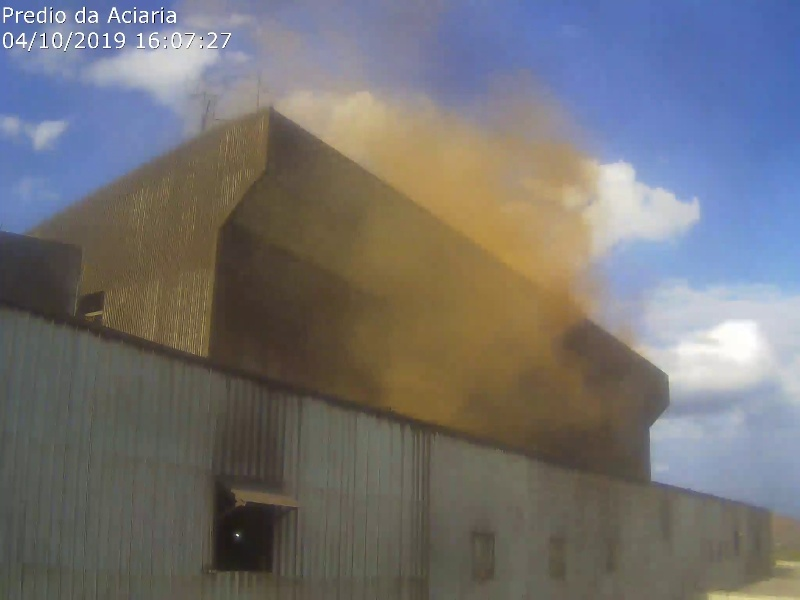bom: (621, 4, 800, 221), (4, 4, 181, 204)
pessimo: (326, 129, 604, 445)
ruim: (217, 4, 568, 120)
